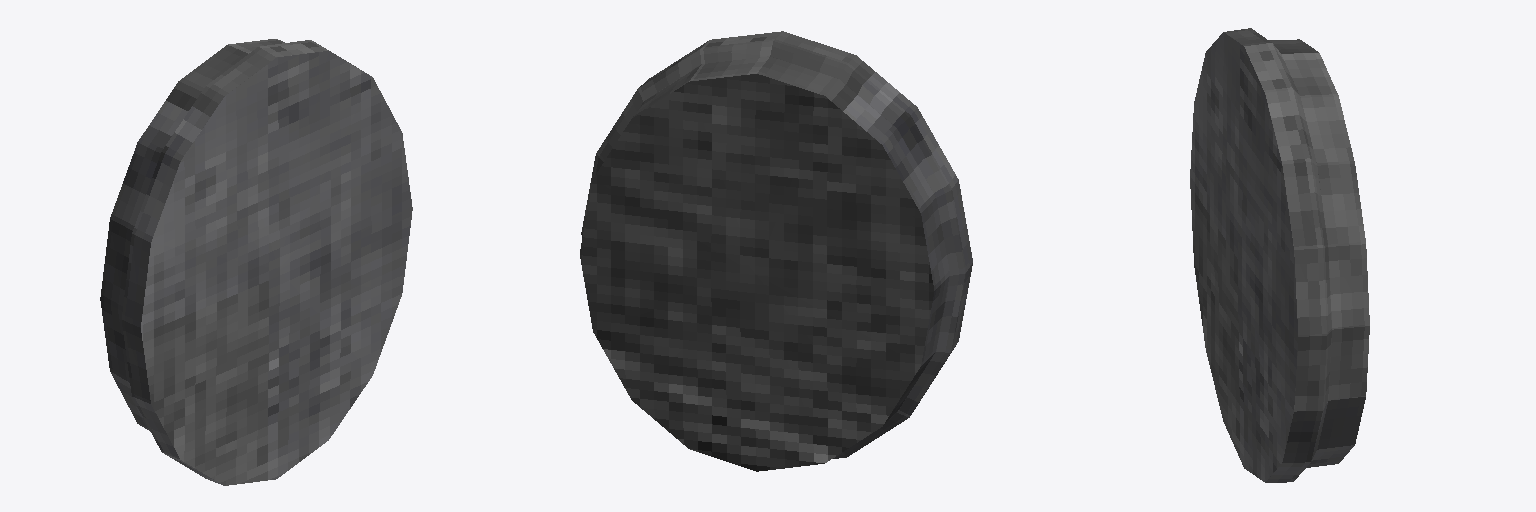
The picture shows the model from 3 angles: view 1: azimuth 30°, elevation 25°; view 2: azimuth 150°, elevation 25°; view 3: azimuth 270°, elevation 25°; orthographic projection.
Parts seen in each view (by area): view 1: LlantaIzq7; view 2: LlantaIzq7; view 3: LlantaIzq7.
Boxes of the visible parts, x1,y1,x2,y2 form: LlantaIzq7: [100, 39, 412, 485]; LlantaIzq7: [580, 31, 972, 471]; LlantaIzq7: [1190, 28, 1369, 482].
Bounding box in the file's own units: 0.2179 × 0.2666 × 0.1023.
1 materials, 1 textured.